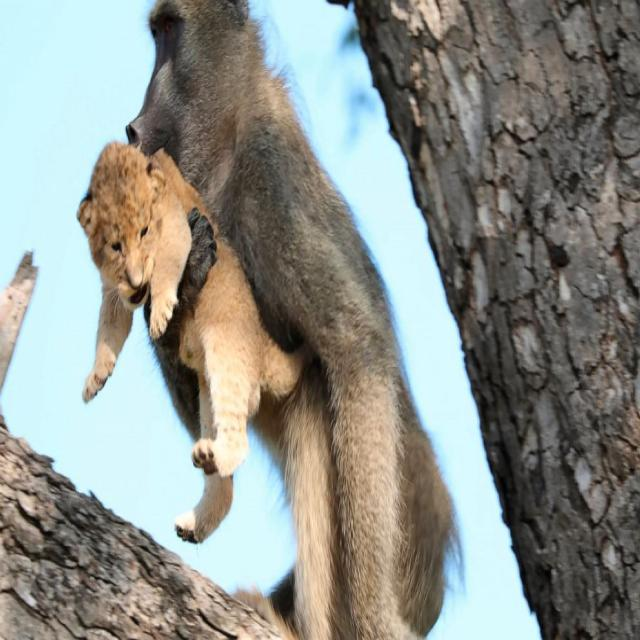Lion: (79, 140, 303, 545)
